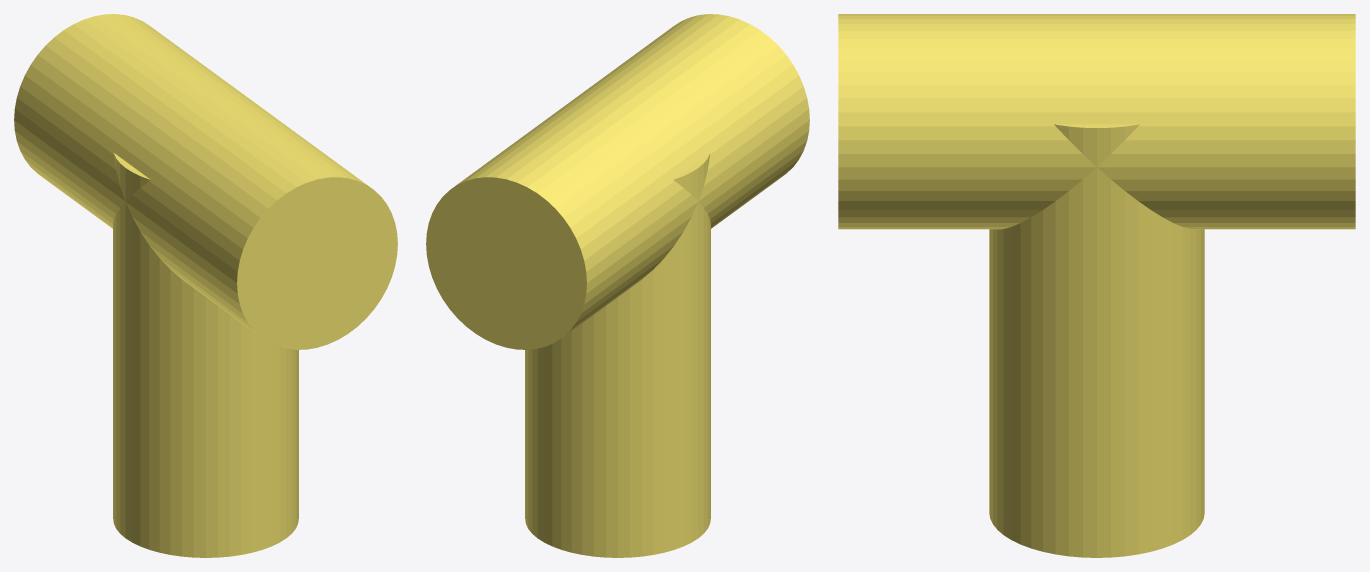
File: tee.glb
The picture shows the model from 3 angles, left to right: view 1: azimuth 30°, elevation 25°; view 2: azimuth 150°, elevation 25°; view 3: azimuth 270°, elevation 25°; orthographic projection. The views are drawn at different scales.
Size of the model in its own units: 10 by 25 by 24.
